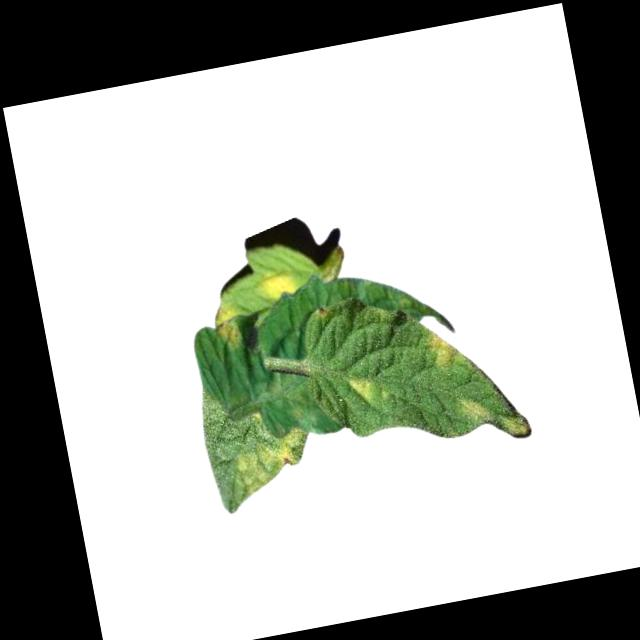Leaf_Mold: (233, 426, 312, 494), (205, 298, 244, 352), (249, 264, 300, 305), (423, 328, 465, 372), (342, 369, 379, 406), (501, 406, 532, 439), (460, 393, 489, 426)
